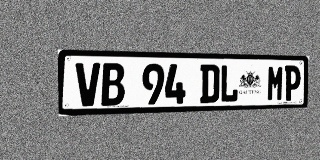4: (165, 64, 186, 104)
9: (143, 63, 164, 105)
B: (101, 63, 125, 106)
D: (200, 64, 220, 103)
L: (220, 65, 239, 103)
M: (267, 65, 284, 101)
P: (284, 65, 301, 101)
V: (76, 62, 100, 106)
